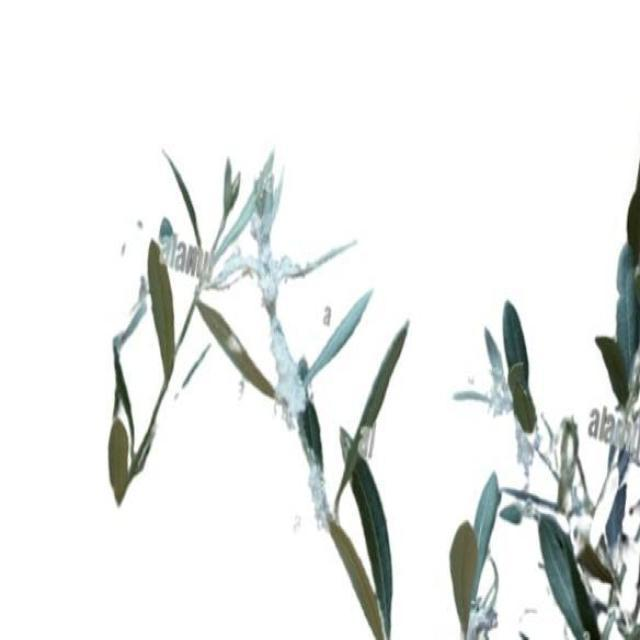Psyllid: (248, 152, 322, 470), (452, 362, 540, 492), (500, 505, 530, 523)
